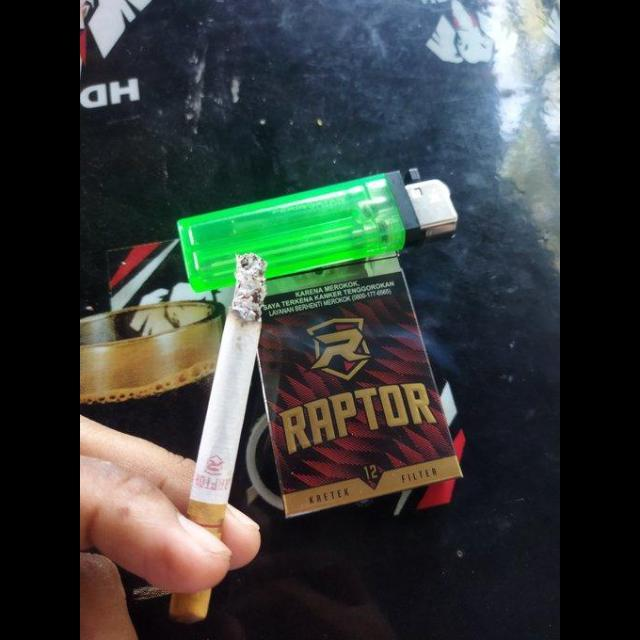rokok: (158, 246, 272, 624)
